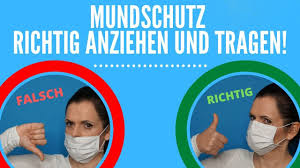mask_weared_incorrect: (65, 109, 102, 162)
with_mask: (245, 108, 282, 158)
